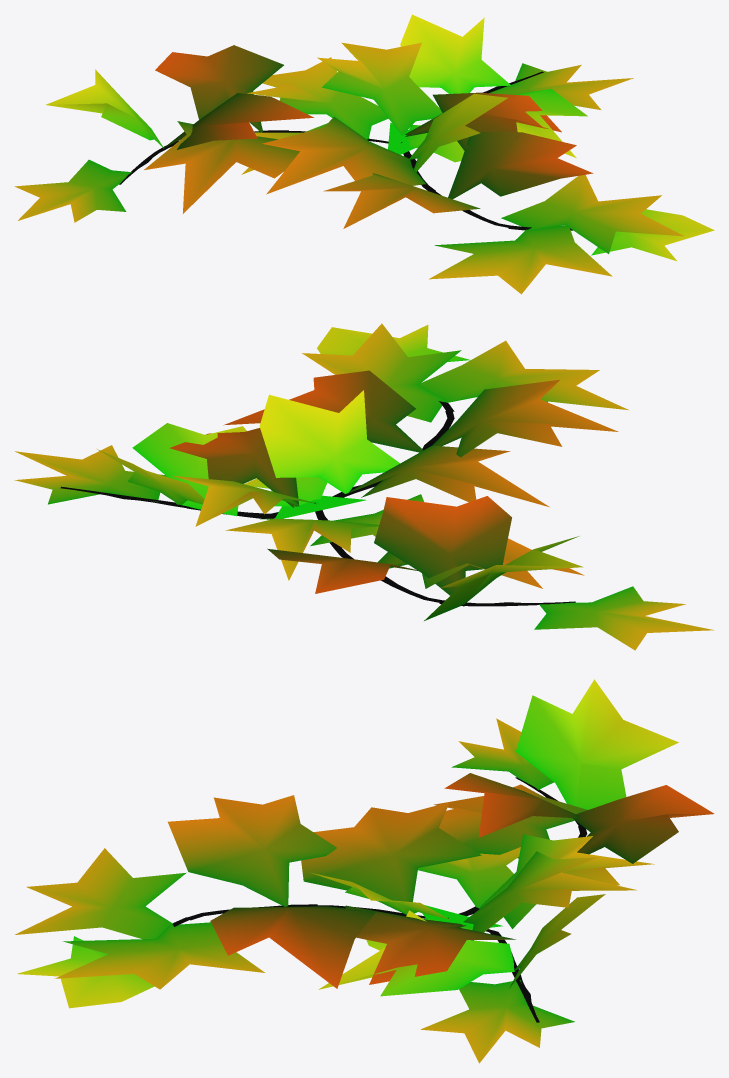
File: Mile-a-minute Vine_LOD0_Var6_sfqns.fbx
3 views of the same model, one above another, from view 1: azimuth 30°, elevation 25°; view 2: azimuth 150°, elevation 25°; view 3: azimuth 270°, elevation 25° (orthographic). The views are drawn at different scales.
Visible parts, largest first — view 1: _1e33_Var6_LOD0; view 2: _1e33_Var6_LOD0; view 3: _1e33_Var6_LOD0.
Boxes of the visible parts, <box> form: _1e33_Var6_LOD0: <box>14,14,714,294</box>; _1e33_Var6_LOD0: <box>14,323,714,650</box>; _1e33_Var6_LOD0: <box>15,679,714,1063</box>.
Size of the model in its own units: 34.3 by 4.05 by 29.44.
